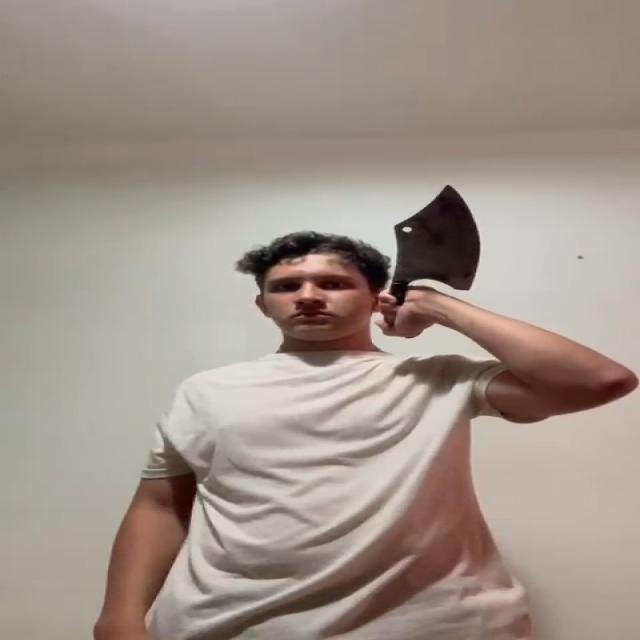knife: (398, 182, 485, 294)
